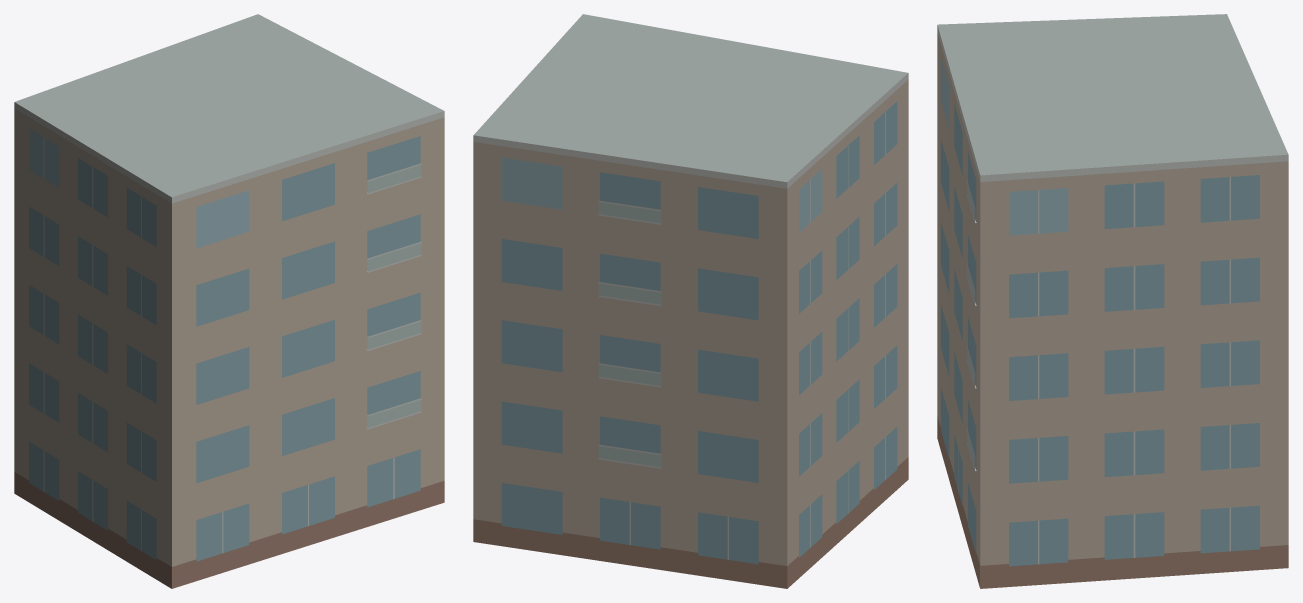
File: residential-dad179b4-9005-4c71-bd57-9677c609fa12.glb
3 renders of one model, left to right at view 1: azimuth 30°, elevation 25°; view 2: azimuth 150°, elevation 25°; view 3: azimuth 270°, elevation 25°, orthographic. The views are drawn at different scales.
Parts seen in each view (by area): view 1: residential-dad179b4-9005-4c71-bd57-9677c609fa12.tmp; view 2: residential-dad179b4-9005-4c71-bd57-9677c609fa12.tmp; view 3: residential-dad179b4-9005-4c71-bd57-9677c609fa12.tmp.
Boxes of the visible parts, bbox=[...] form: residential-dad179b4-9005-4c71-bd57-9677c609fa12.tmp: bbox=[14, 14, 444, 588]; residential-dad179b4-9005-4c71-bd57-9677c609fa12.tmp: bbox=[473, 14, 908, 588]; residential-dad179b4-9005-4c71-bd57-9677c609fa12.tmp: bbox=[937, 14, 1288, 588].
Size of the model in its own units: 12.79 by 15.25 by 11.76.
